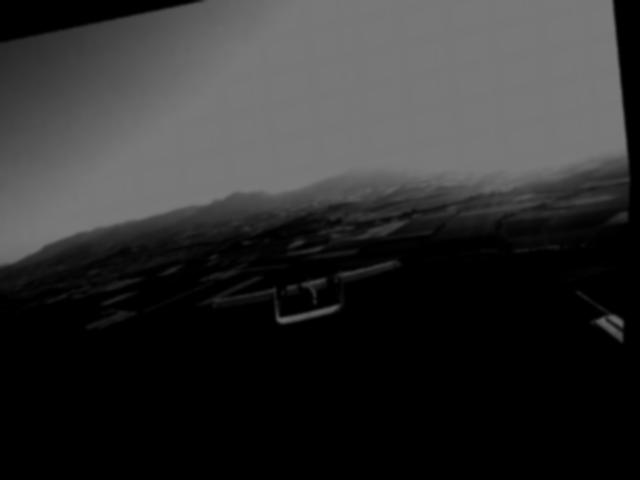hedef: (194, 238, 430, 358)
